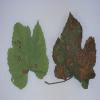grape leaf black rot: (51, 10, 98, 90), (3, 18, 50, 95)
